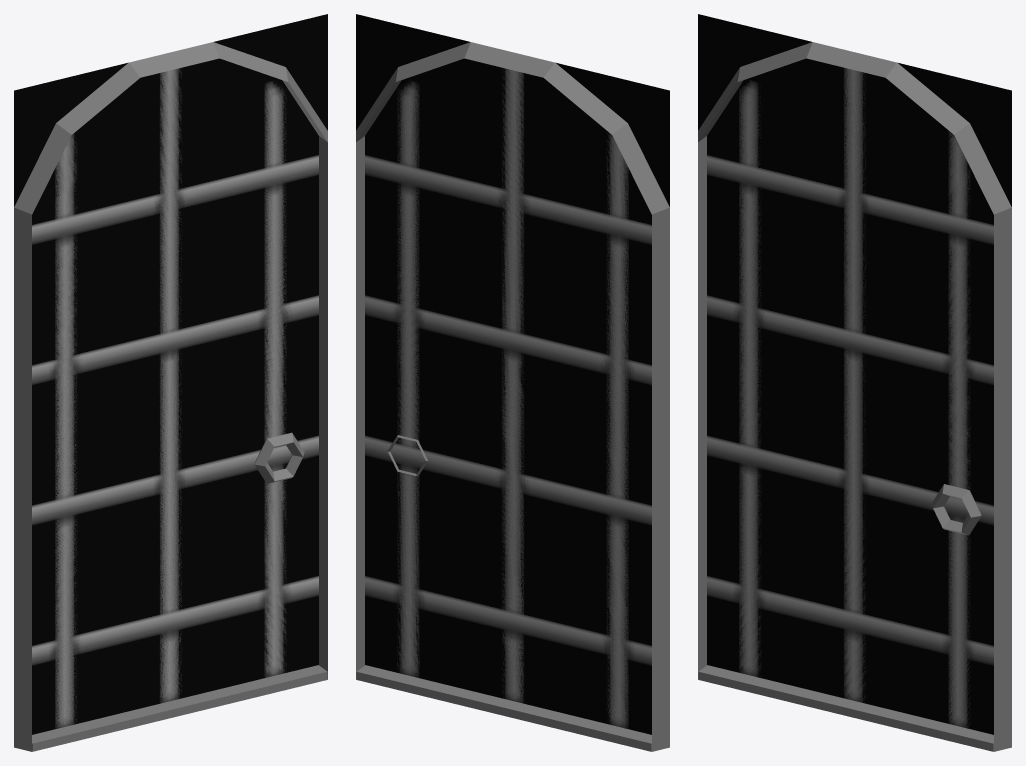
The model's file is gate1.obj.
3 renders of one model, left to right at view 1: azimuth 30°, elevation 25°; view 2: azimuth 150°, elevation 25°; view 3: azimuth 330°, elevation 25°, orthographic.
Parts seen in each view (by area): view 1: Object.1, Object.3, Object.2, Object.4; view 2: Object.1, Object.3, Object.2; view 3: Object.1, Object.3, Object.2, Object.4.
Part boxes in pixels (<box>): Object.1: <box>14,14,327,734</box>; Object.3: <box>14,42,327,751</box>; Object.2: <box>32,665,327,751</box>; Object.4: <box>254,432,304,483</box>; Object.1: <box>356,14,669,734</box>; Object.3: <box>356,42,669,751</box>; Object.2: <box>356,665,651,751</box>; Object.1: <box>698,14,1011,734</box>; Object.3: <box>698,42,1011,751</box>; Object.2: <box>698,665,993,751</box>; Object.4: <box>931,484,981,535</box>.
Size of the model in its own units: 1 by 2 by 0.1.
